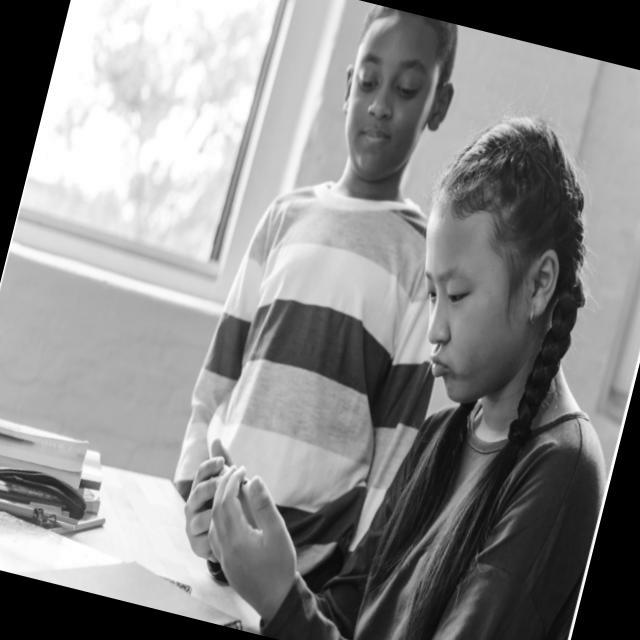phone: (200, 460, 276, 532)
